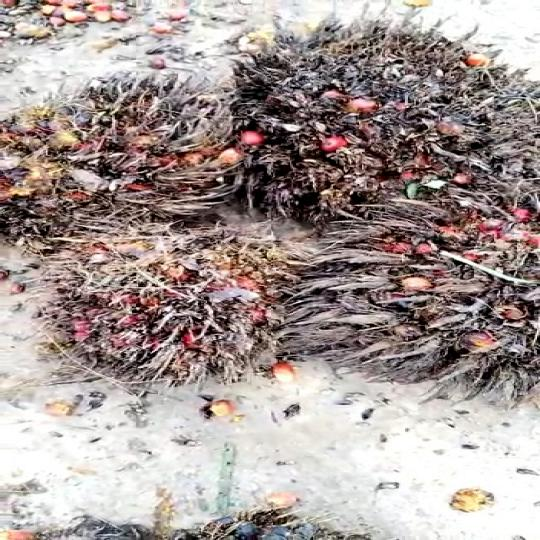terlalu masak: (215, 19, 540, 227), (280, 184, 540, 392), (35, 218, 326, 392), (0, 67, 270, 234)
